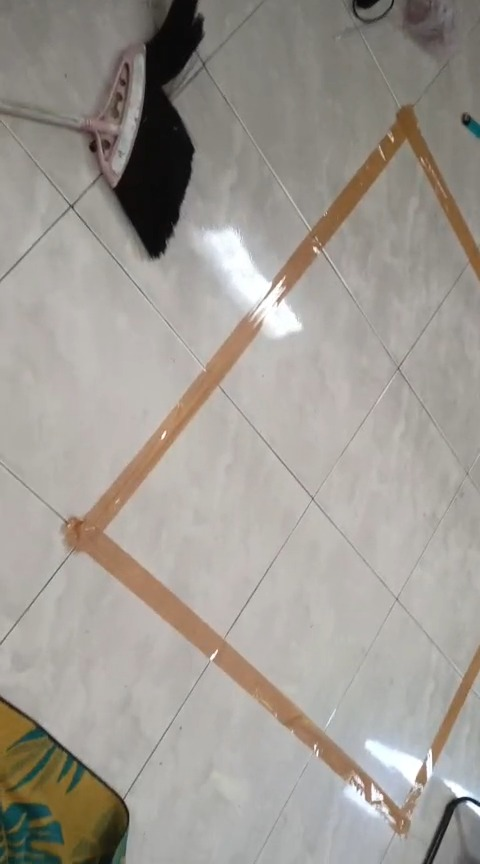floor marking: (66, 106, 479, 833)
